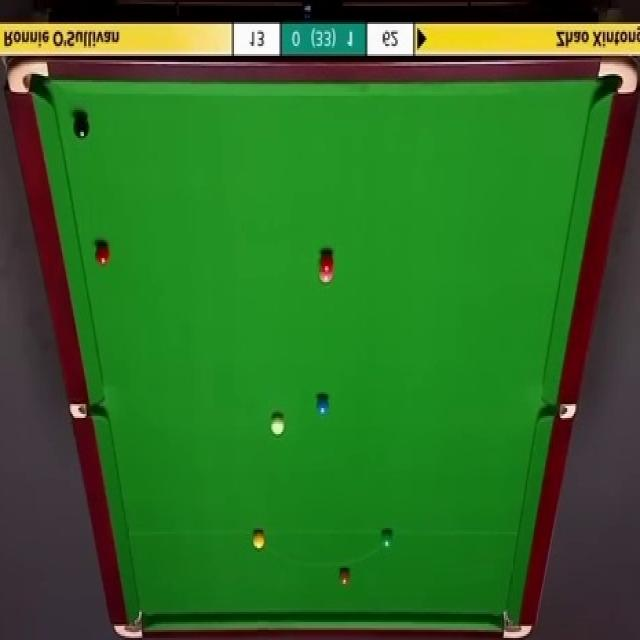pocket: (595, 56, 638, 98), (7, 58, 51, 96), (500, 606, 532, 640), (114, 612, 141, 640), (69, 402, 108, 418), (542, 402, 576, 418)
